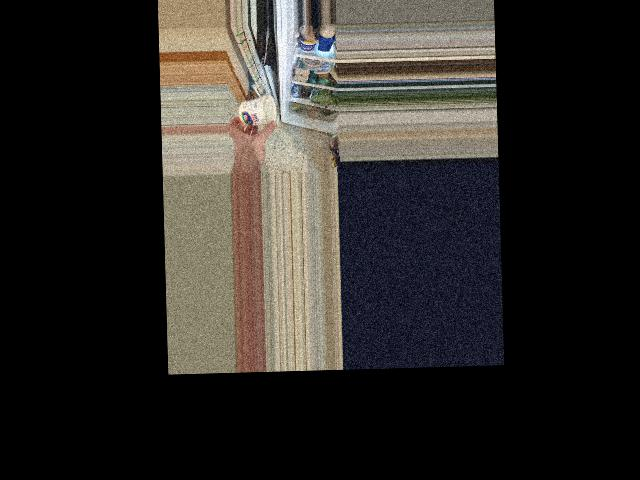cotage: (237, 93, 277, 130)
